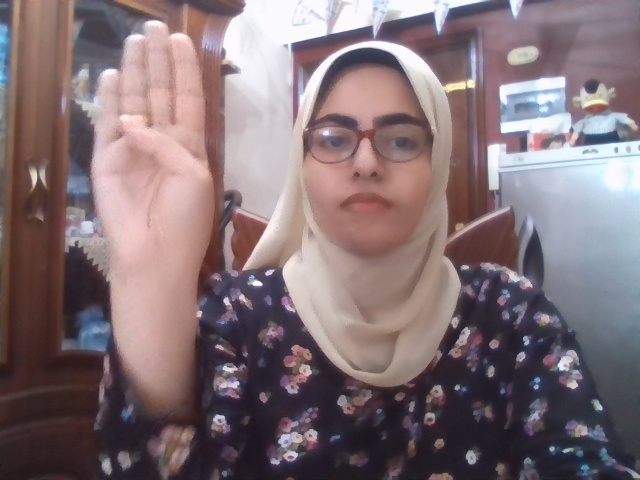B: (93, 21, 215, 279)
